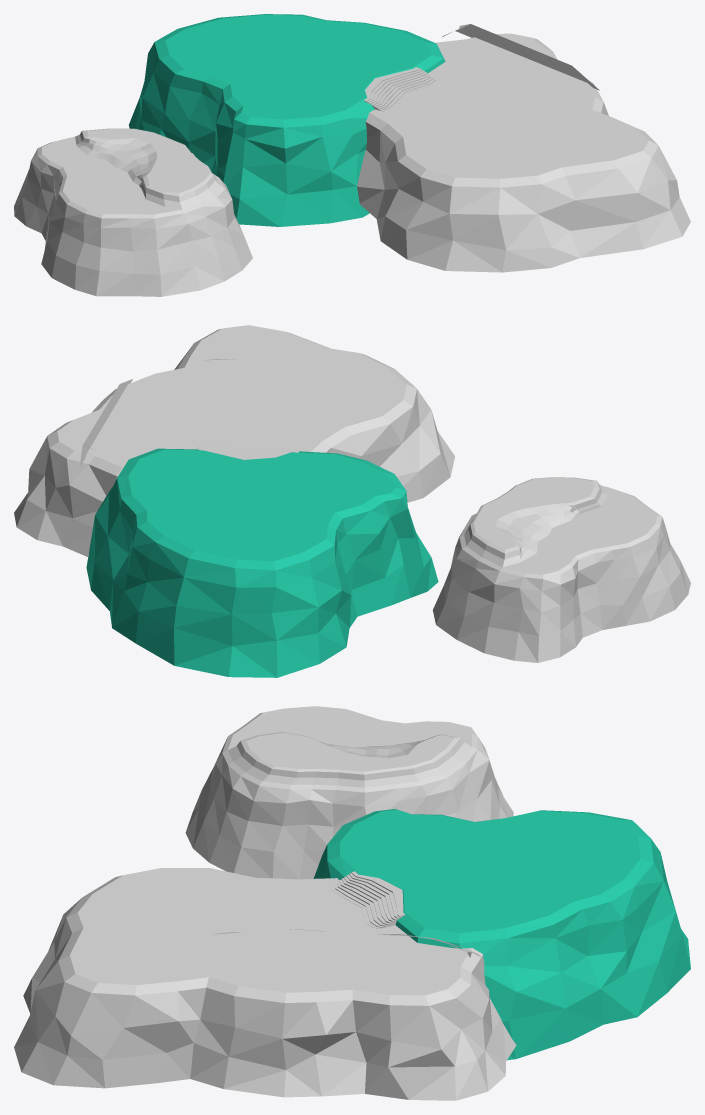
Rendered from village.glb.
The picture shows the model from 3 angles, top to bottom: view 1: azimuth 30°, elevation 25°; view 2: azimuth 150°, elevation 25°; view 3: azimuth 270°, elevation 25°; orthographic projection. The views are drawn at different scales.
Visible parts, largest first — view 1: Village2, Village1, Spawn, VillageStairs2, VillageLove; view 2: Village1, Village2, Spawn, VillageStairs2, VillageLove; view 3: Village2, Village1, Spawn, VillageStairs2.
Boxes of the visible parts, <box> form: Village2: <box>357,33,690,272</box>; Village1: <box>129,14,445,226</box>; Spawn: <box>14,128,252,296</box>; VillageStairs2: <box>363,67,438,111</box>; VillageLove: <box>442,24,599,90</box>; Village1: <box>86,448,438,677</box>; Village2: <box>14,325,454,557</box>; Spawn: <box>433,477,690,662</box>; VillageStairs2: <box>198,443,298,459</box>; VillageLove: <box>80,359,235,466</box>; Village2: <box>14,868,516,1100</box>; Village1: <box>313,809,690,1060</box>; Spawn: <box>185,706,513,879</box>; VillageStairs2: <box>332,871,405,928</box>.
Bounding box in the file's own units: 107 × 17.79 × 93.68.
1 material, 1 textured.
